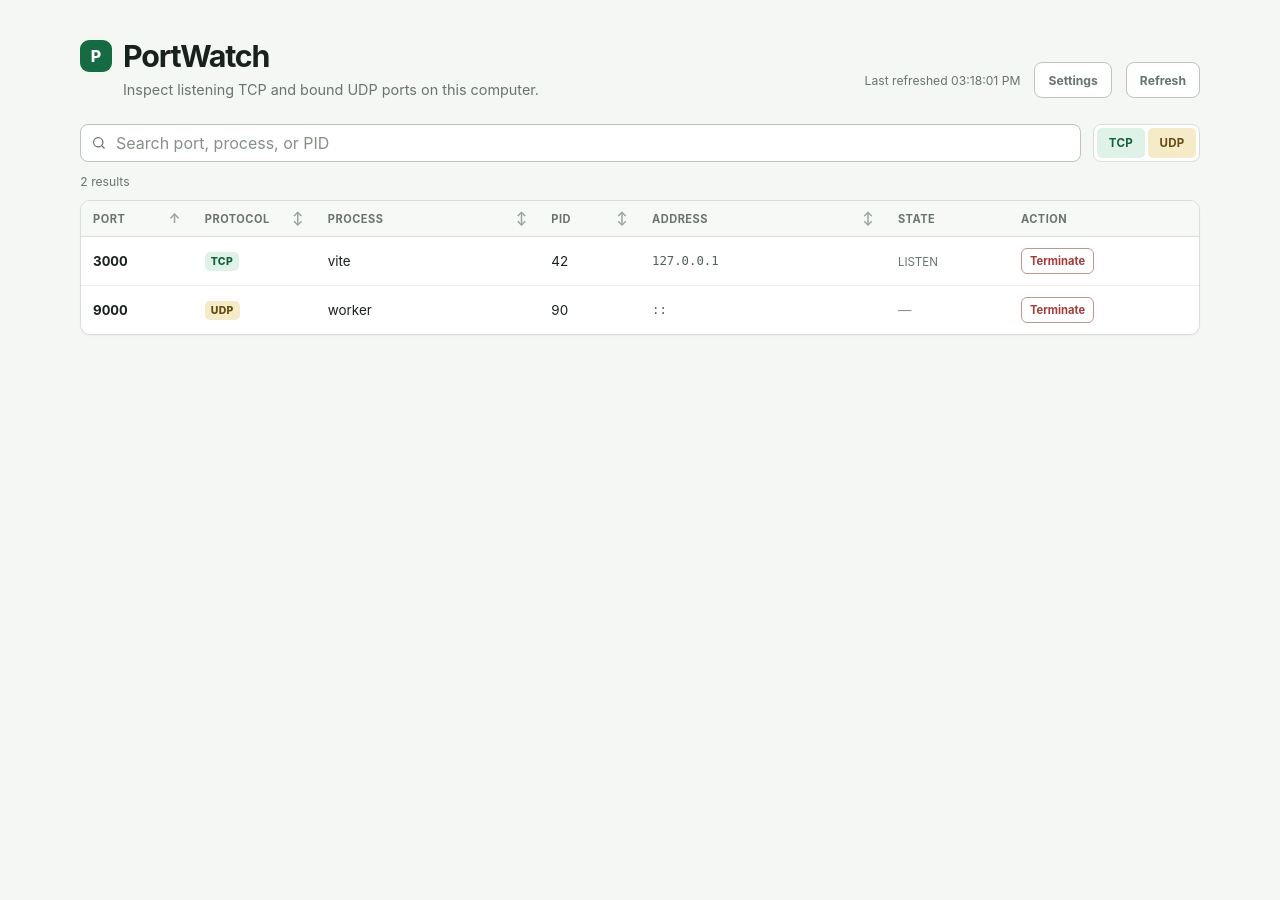
Test: full view › maps termination errors safely and refreshes a stale process
The width and height of the screenshot is (1280, 900).
Expected: the text "vite" is shown, [328, 253, 351, 269]
What coordinates should you click on to do the following:
click the button with aria-label "Terminate vite on port 3000"
I would click on:
 (1058, 261)
Its box is [1021, 248, 1094, 274].
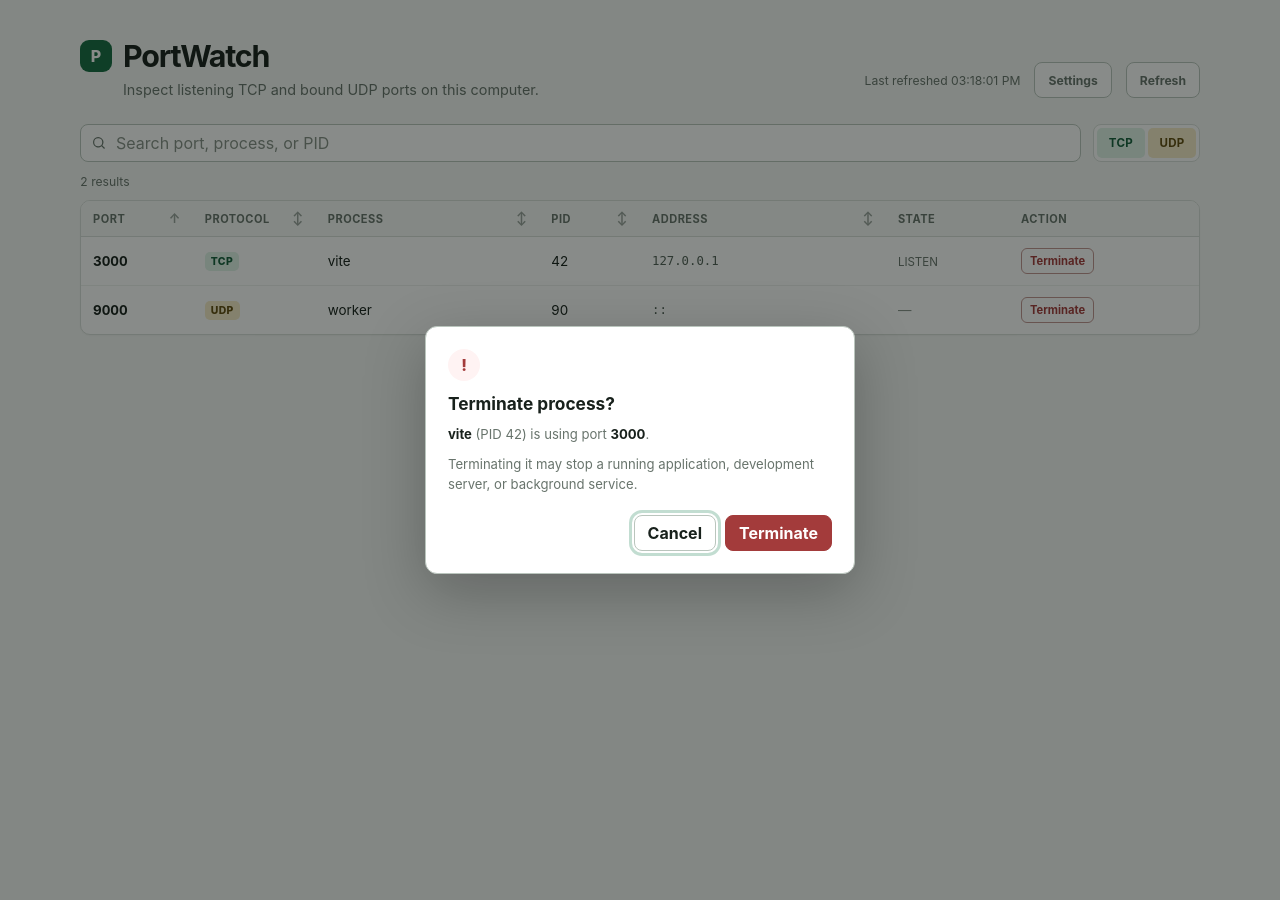
What coordinates should you click on to do the following:
click the button "Terminate"
I would click on:
 (778, 532)
Its box is [725, 514, 832, 550].
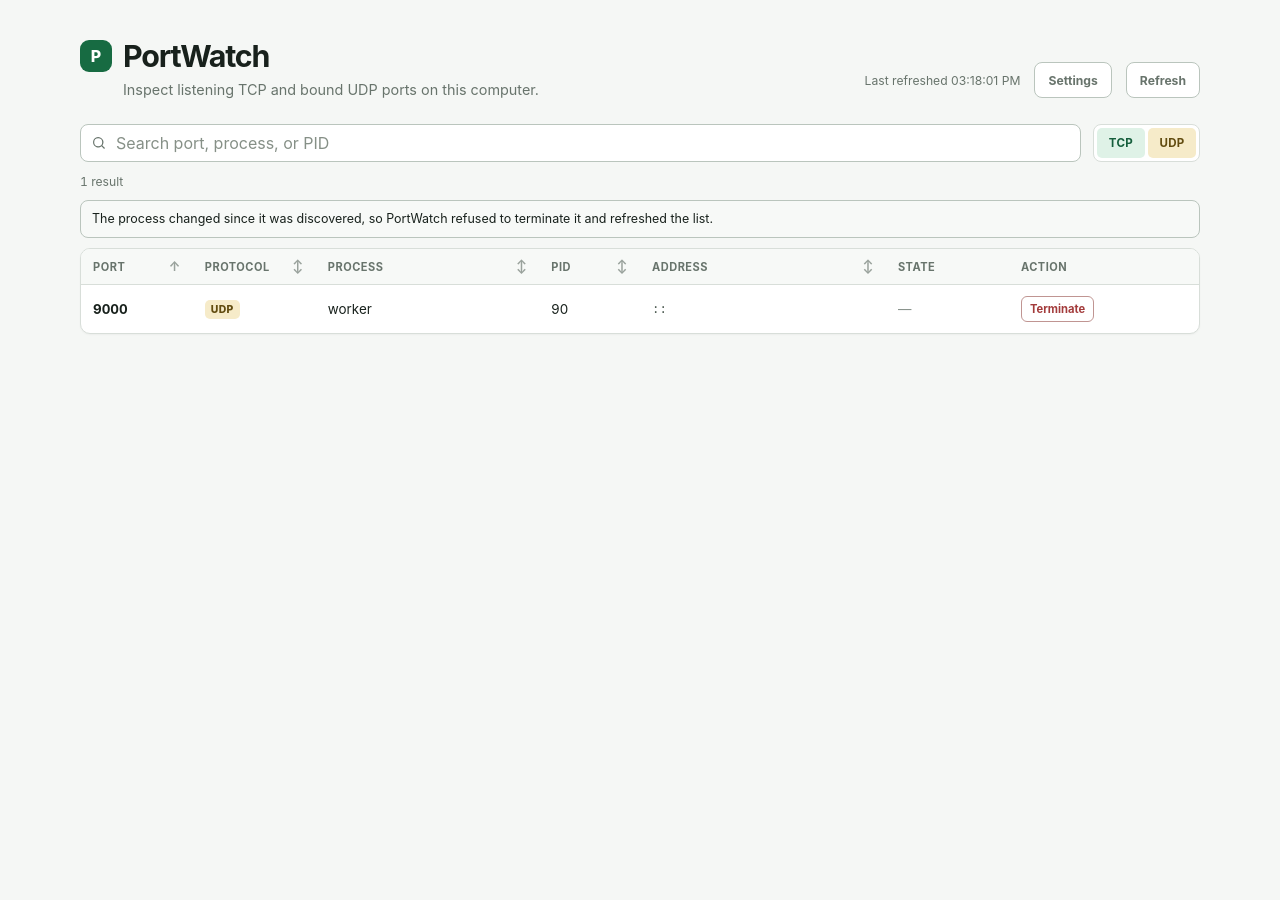
Expected: the message shows "changed since it was discovered", [92, 211, 713, 226]
Expected: the text "vite" is gone
